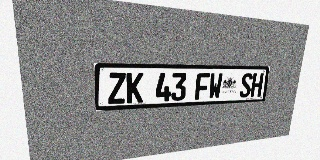3: (171, 73, 187, 101)
4: (155, 73, 172, 102)
F: (195, 73, 210, 100)
H: (250, 73, 264, 97)
K: (126, 73, 143, 103)
S: (239, 73, 253, 98)
W: (208, 73, 223, 99)
Z: (108, 73, 126, 104)
